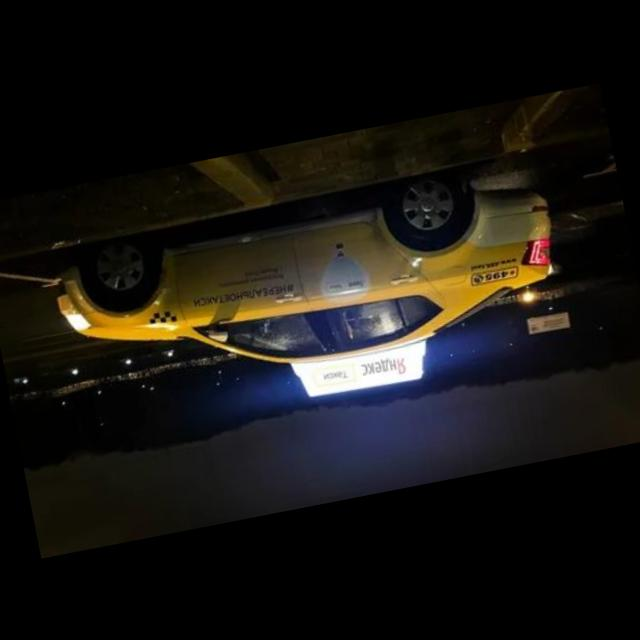taxi: (48, 156, 579, 449)
